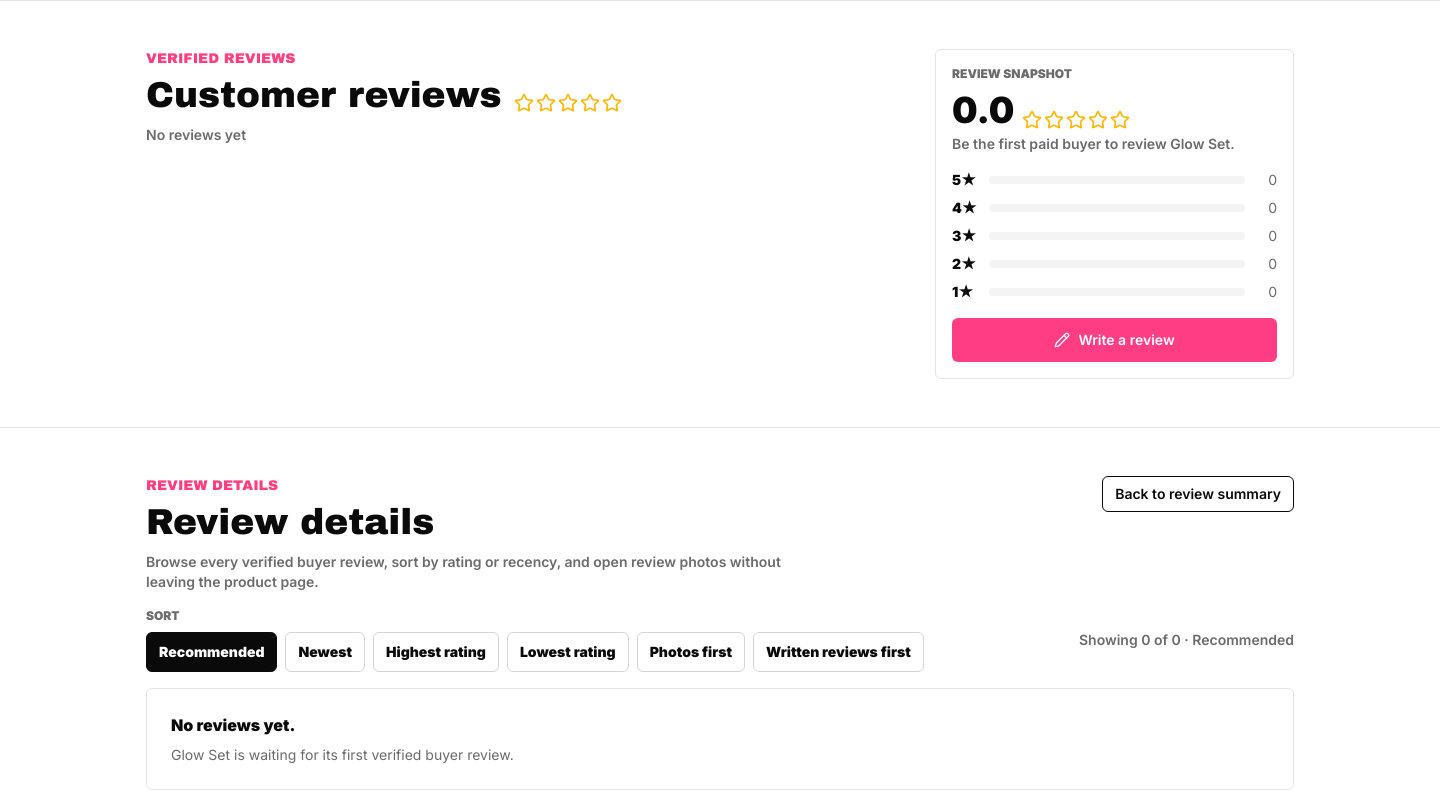
Test: ProductReviewsSection › submits a rating-only verified-purchase review
The image size is (1440, 810).
Click the button "Write a review": (1115, 340) left=952, top=318, right=1277, bottom=362
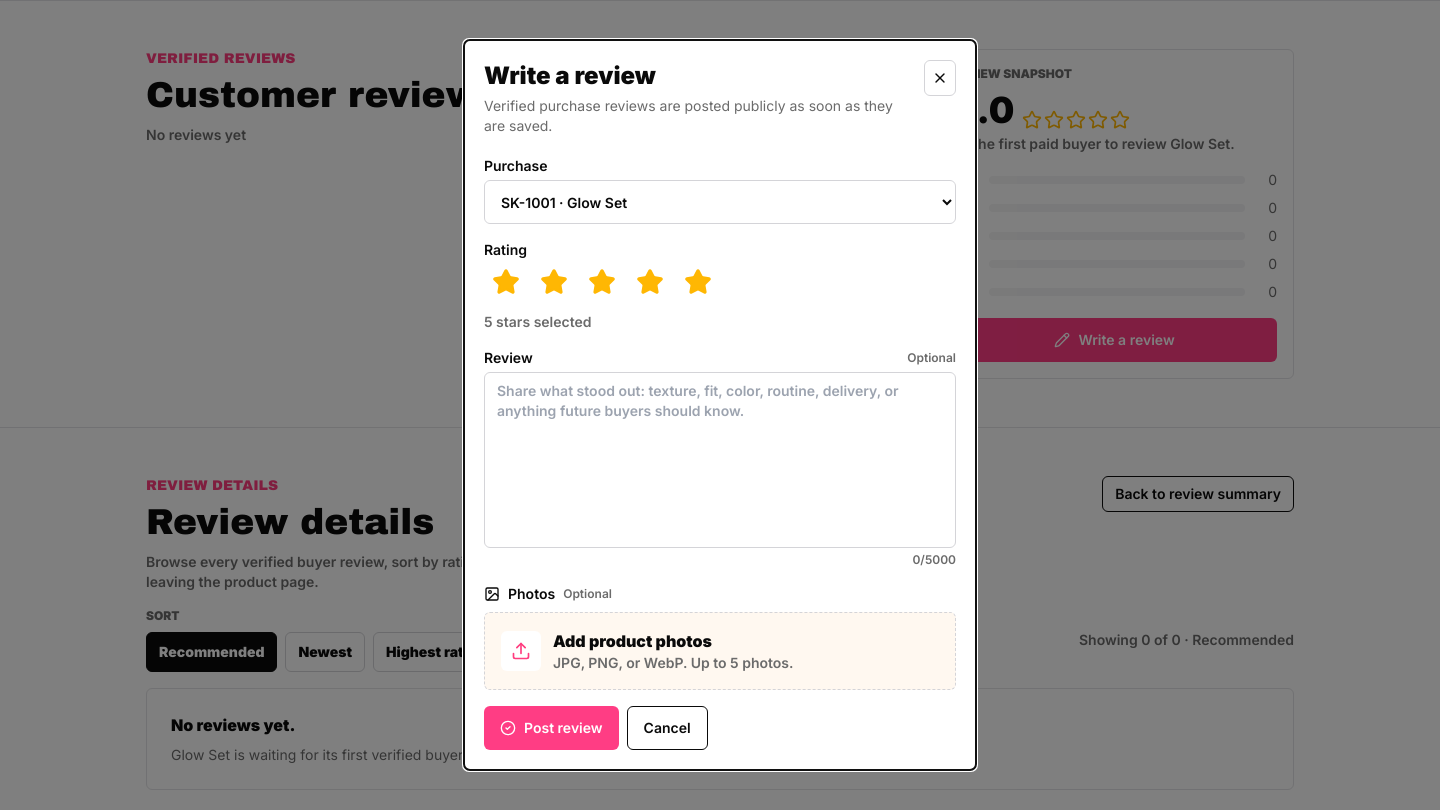
Submit the form named "Post review", box left=484, top=156, right=956, bottom=750
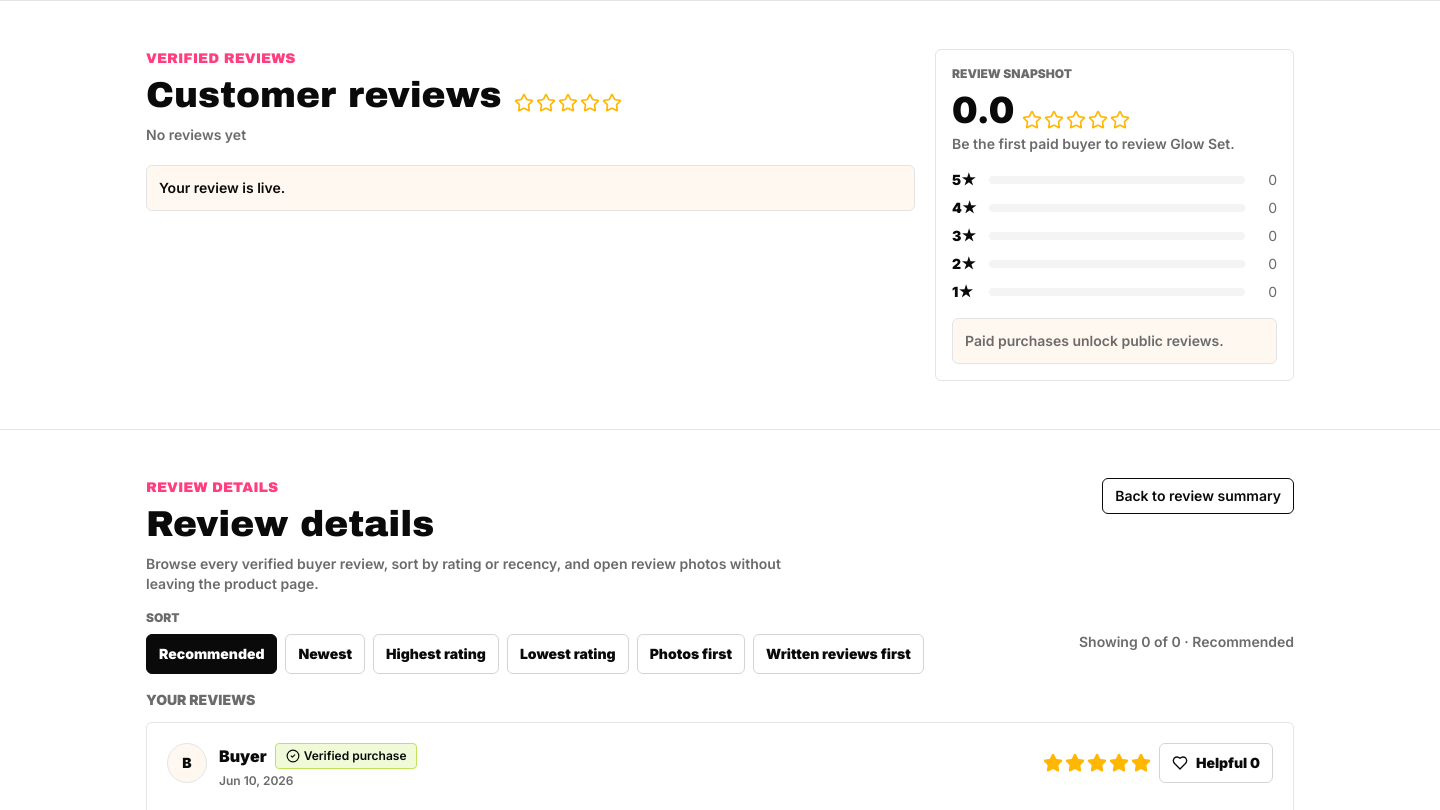
Check: the button "Post review" is gone
